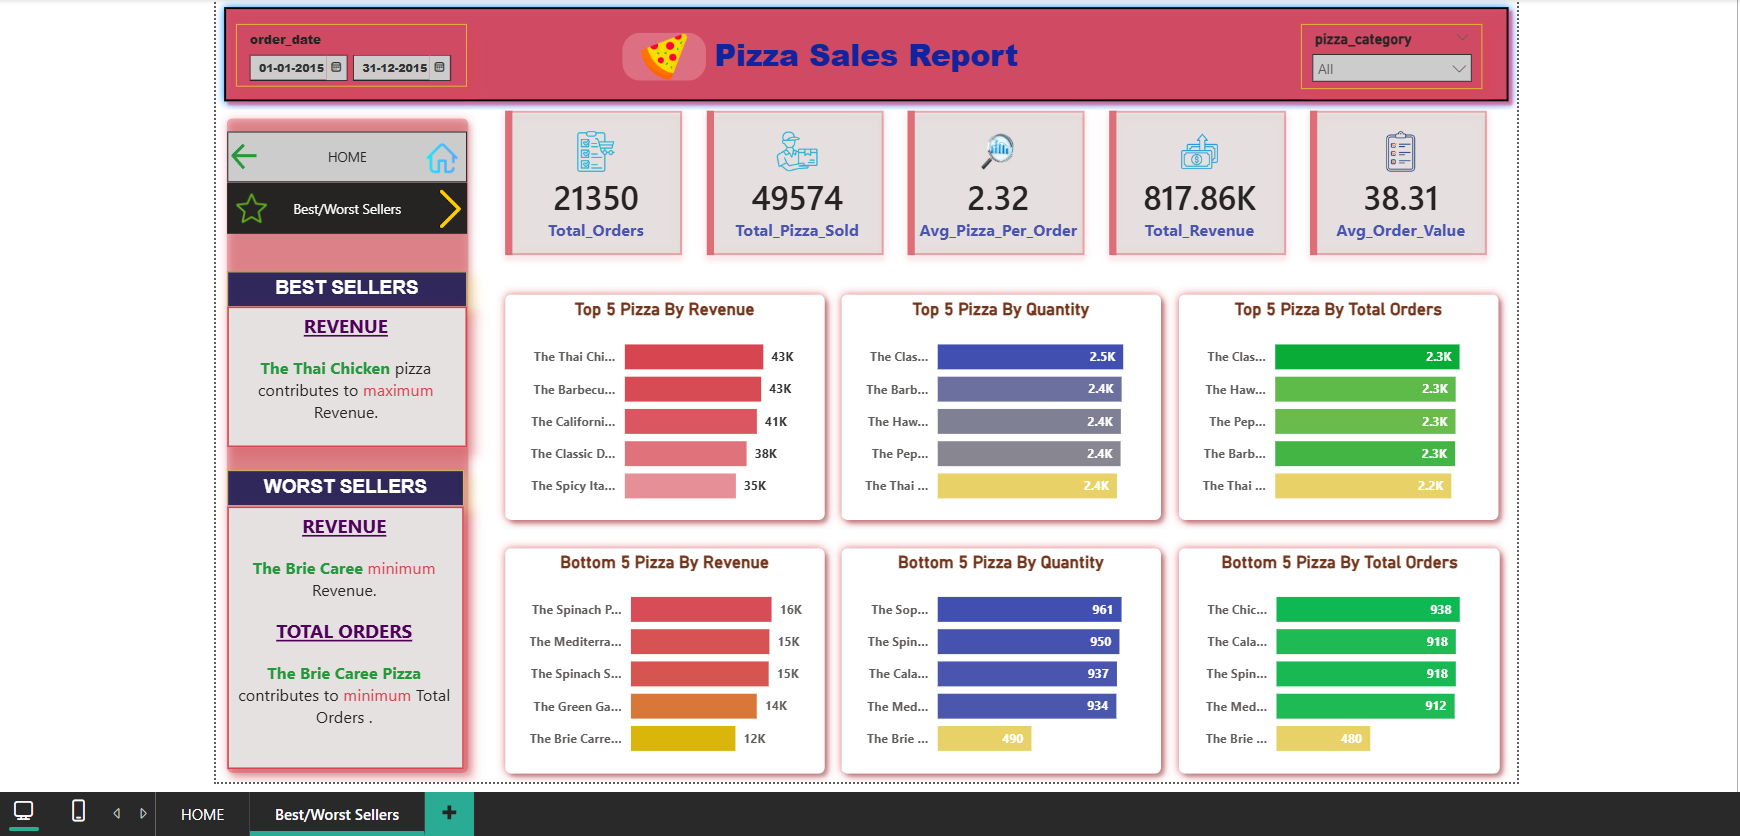

This screenshot's page, from the dashboard's own definition file:
{"tool":"powerbi","page":{"name":"Best/Worst Sellers","canvas":[1280,771],"ordinal":1},"visuals":[{"type":"cardVisual","fields":{"Data":["pizza_sales.Total_Orders","pizza_sales.Total_Pizza_Sold","pizza_sales.Avg_Pizza_Per_Order","pizza_sales.Total_Revenue","pizza_sales.Avg_Order_Value"]},"box":[255.7,81.4,1024.3,200],"z":0},{"type":"shape","box":[0,0,1280,108.8],"z":1000},{"type":"image","box":[400,33.8,82.5,47.5],"z":2000},{"type":"shape","box":[275,531.2,332.5,240],"z":3000},{"type":"shape","box":[606.2,531.2,332.5,240],"z":4000},{"type":"shape","box":[938.8,531.2,333.8,240],"z":5000},{"type":"shape","box":[1.2,108.8,256.2,662.5],"z":6000},{"type":"textbox","box":[10.8,463.6,233.1,35],"z":7000},{"type":"textbox","box":[11,499,233,258],"z":8000},{"type":"textbox","box":[11,268,236,35],"z":9000},{"type":"textbox","box":[11.2,302.5,236.2,138.8],"z":10000},{"type":"slicer","fields":{"Values":["pizza_sales.order_date"]},"box":[20,25,227.5,61.2],"z":11000},{"type":"slicer","fields":{"Values":["pizza_sales.pizza_category"]},"box":[1067.5,25,178.8,63.8],"z":12000},{"type":"shape","box":[275,281.2,332.5,240],"z":13000},{"type":"shape","box":[606.2,281.2,332.5,240],"z":14000},{"type":"shape","box":[938.8,281.2,332.5,240],"z":15000},{"type":"barChart","title":"Top 5 Pizza By Revenue","fields":{"Category":["pizza_sales.pizza_name"],"Y":["pizza_sales.Total_Revenue"]},"box":[291.2,295,300,215],"z":16000},{"type":"barChart","title":"Bottom 5 Pizza By Revenue","fields":{"Category":["pizza_sales.pizza_name"],"Y":["pizza_sales.Total_Revenue"]},"box":[291.2,543.8,300,215],"z":17000},{"type":"barChart","title":"Top 5 Pizza By Quantity","fields":{"Category":["pizza_sales.pizza_name"],"Y":["pizza_sales.Total_Pizza_Sold"]},"box":[622.5,295,300,215],"z":18000},{"type":"barChart","title":"Bottom 5 Pizza By Quantity","fields":{"Category":["pizza_sales.pizza_name"],"Y":["pizza_sales.Total_Pizza_Sold"]},"box":[622.5,543.8,300,215],"z":19000},{"type":"barChart","title":"Top 5 Pizza By Total Orders","fields":{"Category":["pizza_sales.pizza_name"],"Y":["pizza_sales.Total_Orders"]},"box":[955,295,300,215],"z":20000},{"type":"barChart","title":"Bottom 5 Pizza By Total Orders","fields":{"Category":["pizza_sales.pizza_name"],"Y":["pizza_sales.Total_Orders"]},"box":[956.2,543.8,300,215],"z":21000},{"type":"pageNavigator","box":[11.1,180.8,236.2,50.4],"z":21001},{"type":"pageNavigator","box":[11.1,130.4,236.2,50.4],"z":21002},{"type":"image","box":[201.7,141.5,41.8,30.8],"z":21003},{"type":"image","box":[11.1,190.7,48,30.8],"z":21004},{"type":"actionButton","box":[11.1,137.8,48,34.4],"z":21005},{"type":"image","box":[205.4,187,50.4,39.4],"z":21006}]}

Visuals, with their boxes on the page's 1280x771 design canvas (x1, y1, x2, y2). These are canvas units, not pixel positions in the 1740x836 screenshot, which may show the page scaled, cropped or inside an application window:
cardVisual - pizza_sales.Total_Orders x pizza_sales.Total_Pizza_Sold: x1=256, y1=81, x2=1280, y2=281
shape: x1=0, y1=0, x2=1280, y2=109
image: x1=400, y1=34, x2=482, y2=81
shape: x1=275, y1=531, x2=608, y2=771
shape: x1=606, y1=531, x2=939, y2=771
shape: x1=939, y1=531, x2=1273, y2=771
shape: x1=1, y1=109, x2=257, y2=771
textbox: x1=11, y1=464, x2=244, y2=499
textbox: x1=11, y1=499, x2=244, y2=757
textbox: x1=11, y1=268, x2=247, y2=303
textbox: x1=11, y1=302, x2=247, y2=441
slicer - pizza_sales.order_date: x1=20, y1=25, x2=248, y2=86
slicer - pizza_sales.pizza_category: x1=1068, y1=25, x2=1246, y2=89
shape: x1=275, y1=281, x2=608, y2=521
shape: x1=606, y1=281, x2=939, y2=521
shape: x1=939, y1=281, x2=1271, y2=521
"Top 5 Pizza By Revenue" barChart: x1=291, y1=295, x2=591, y2=510
"Bottom 5 Pizza By Revenue" barChart: x1=291, y1=544, x2=591, y2=759
"Top 5 Pizza By Quantity" barChart: x1=622, y1=295, x2=922, y2=510
"Bottom 5 Pizza By Quantity" barChart: x1=622, y1=544, x2=922, y2=759
"Top 5 Pizza By Total Orders" barChart: x1=955, y1=295, x2=1255, y2=510
"Bottom 5 Pizza By Total Orders" barChart: x1=956, y1=544, x2=1256, y2=759
pageNavigator: x1=11, y1=181, x2=247, y2=231
pageNavigator: x1=11, y1=130, x2=247, y2=181
image: x1=202, y1=142, x2=244, y2=172
image: x1=11, y1=191, x2=59, y2=222
actionButton: x1=11, y1=138, x2=59, y2=172
image: x1=205, y1=187, x2=256, y2=226
